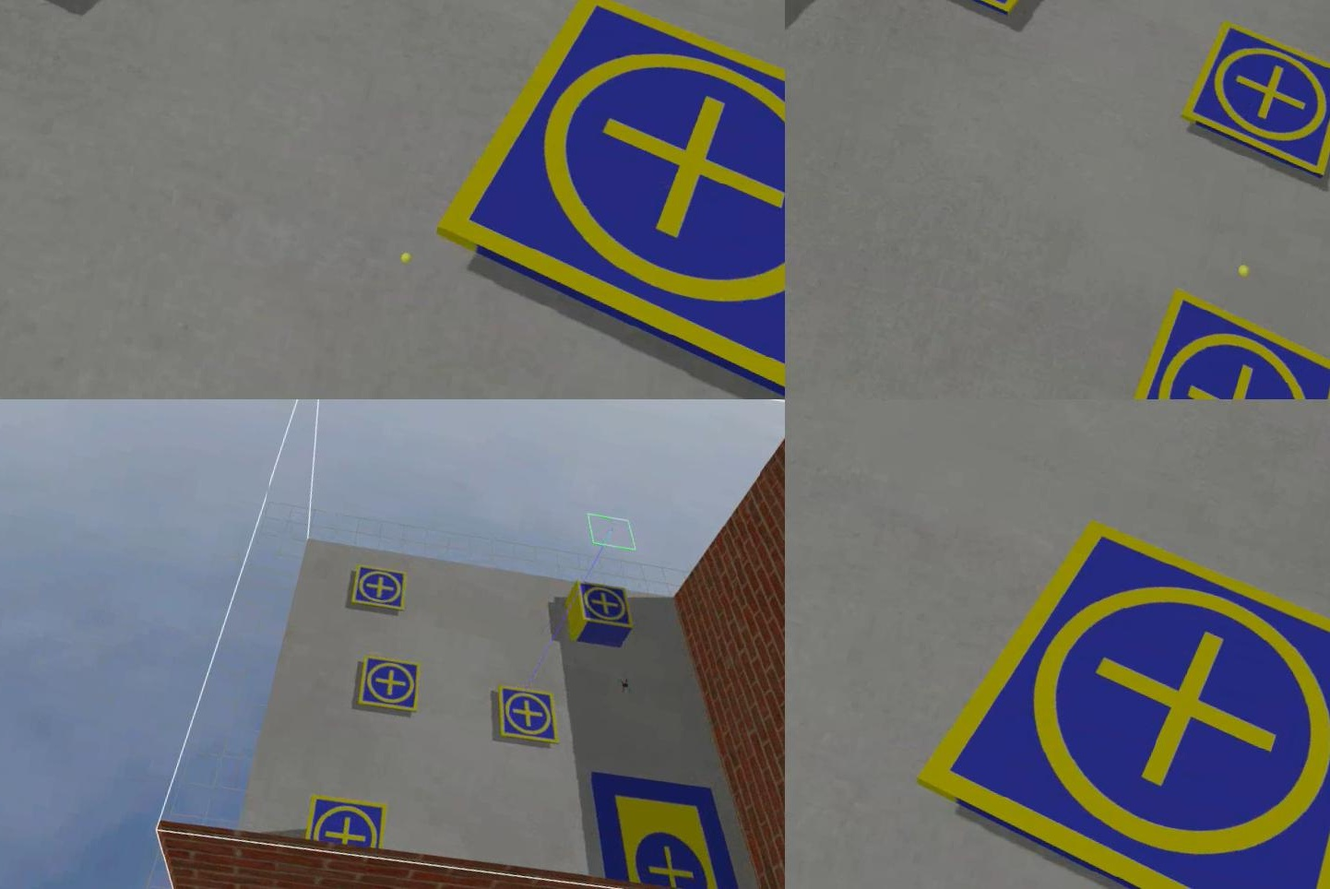large_base: (569, 760, 761, 889)
small_base: (885, 491, 1328, 889), (411, 1, 783, 400), (1093, 282, 1328, 400), (1173, 16, 1328, 180), (300, 786, 391, 861), (485, 681, 567, 751), (350, 649, 426, 719), (566, 575, 636, 635), (344, 560, 414, 619)
